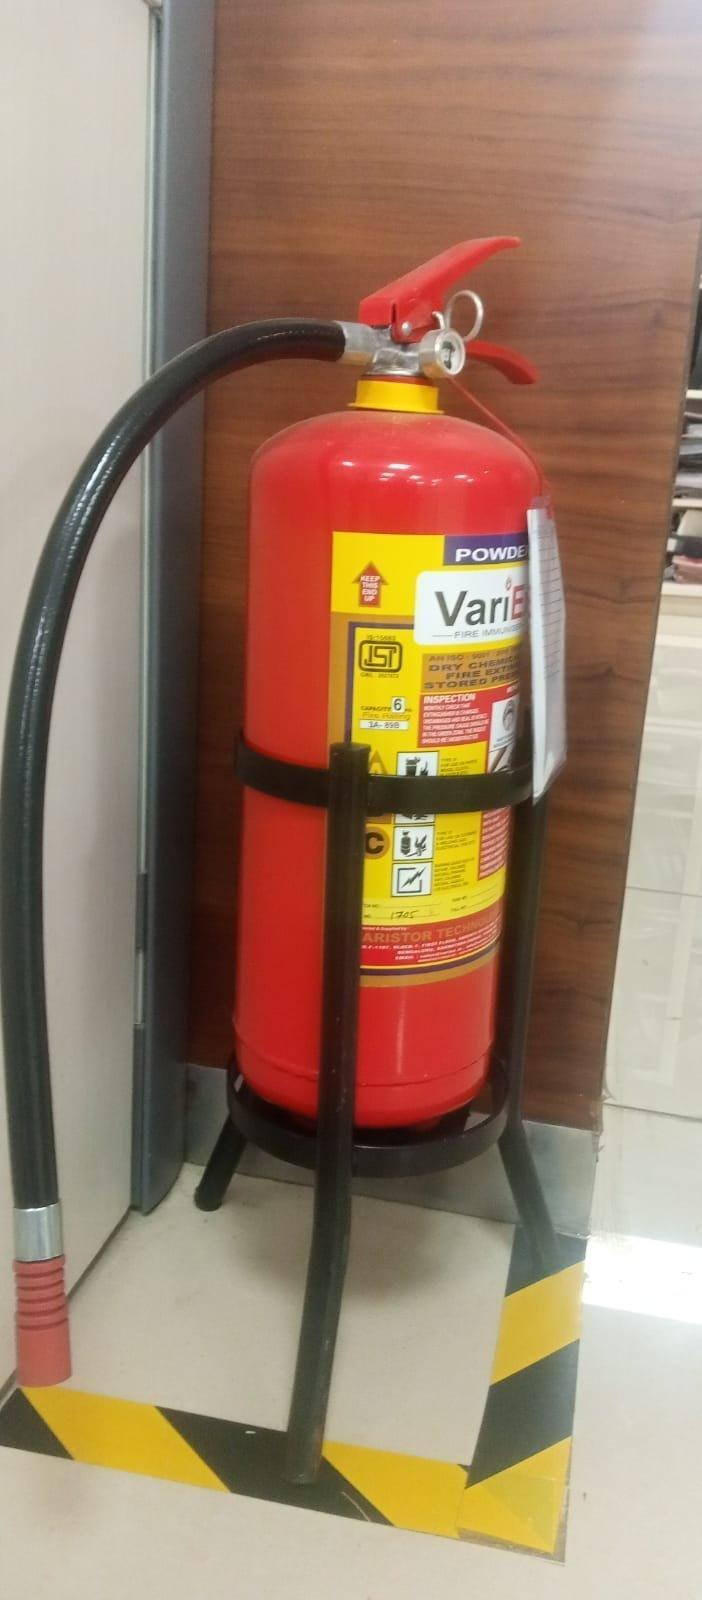floor-kept: (0, 126, 645, 1585)
